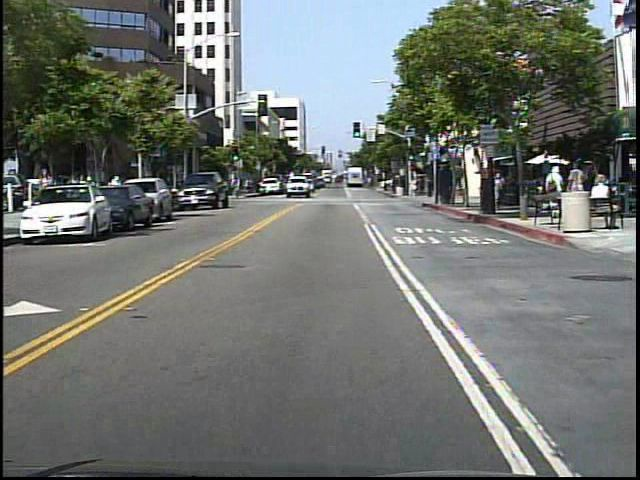person: (34, 164, 56, 221), (492, 170, 504, 214), (231, 174, 244, 201)
